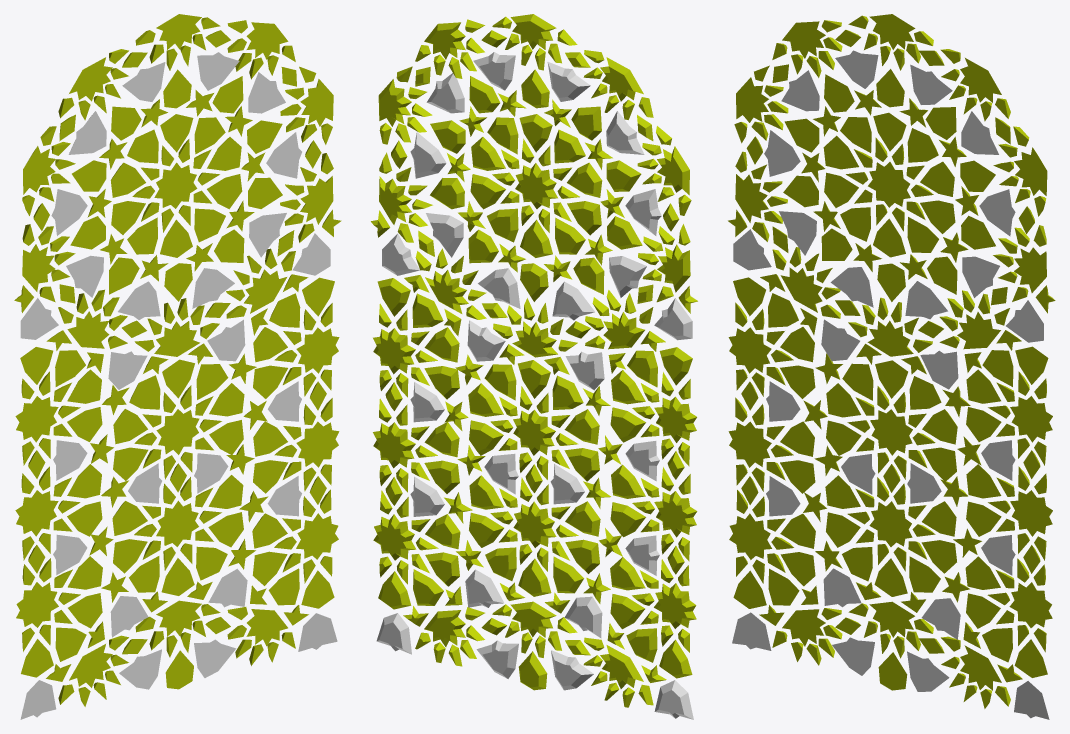
The model's file is ZelligeDoor_lowerPoly_separated.fbx.
3 views of the same model, side by side, from view 1: azimuth 30°, elevation 25°; view 2: azimuth 150°, elevation 25°; view 3: azimuth 330°, elevation 25° (orthographic).
Visible parts, largest first — view 1: Curve.038, Curve.006, Curve.047, Curve.049, Curve.030, Curve.041, Curve.130, Curve.124, Curve.176, Curve.035, Curve.009, Curve.017 (+93 smaller); view 2: Curve.038, Curve.035, Curve.049, Curve.130, Curve.176, Curve.124, Curve.030, Curve.041, Curve.006, Curve.047, Curve.259, Curve.240 (+93 smaller); view 3: Curve.038, Curve.035, Curve.049, Curve.176, Curve.130, Curve.030, Curve.041, Curve.047, Curve.124, Curve.006, Curve.022, Curve.021 (+93 smaller).
Part boxes in pixels (<box>): Curve.038: <box>90,353,267,463</box>; Curve.006: <box>154,162,197,208</box>; Curve.047: <box>296,421,339,467</box>; Curve.049: <box>296,327,339,373</box>; Curve.030: <box>156,500,198,546</box>; Curve.041: <box>296,513,338,559</box>; Curve.130: <box>15,490,58,536</box>; Curve.124: <box>16,582,58,627</box>; Curve.176: <box>15,396,58,442</box>; Curve.035: <box>156,409,199,454</box>; Curve.009: <box>197,52,239,90</box>; Curve.017: <box>68,111,106,154</box>; Curve.038: <box>444,354,622,464</box>; Curve.035: <box>513,409,555,455</box>; Curve.049: <box>373,328,415,374</box>; Curve.130: <box>654,491,697,537</box>; Curve.176: <box>654,396,696,442</box>; Curve.124: <box>654,583,696,628</box>; Curve.030: <box>513,501,556,547</box>; Curve.041: <box>373,514,416,560</box>; Curve.006: <box>515,163,557,208</box>; Curve.047: <box>373,422,415,468</box>; Curve.259: <box>654,680,693,719</box>; Curve.240: <box>476,640,518,678</box>; Curve.038: <box>803,353,981,465</box>; Curve.035: <box>870,409,912,455</box>; Curve.049: <box>1010,396,1052,442</box>; Curve.176: <box>728,327,771,373</box>; Curve.130: <box>728,421,771,467</box>; Curve.030: <box>869,501,912,546</box>; Curve.041: <box>1009,582,1052,627</box>; Curve.047: <box>1010,490,1052,536</box>; Curve.124: <box>729,513,771,559</box>; Curve.006: <box>868,162,910,207</box>; Curve.022: <box>830,267,873,307</box>; Curve.021: <box>779,211,816,255</box>.
Size of the model in its own units: 1.46 by 2.88 by 0.0408.
